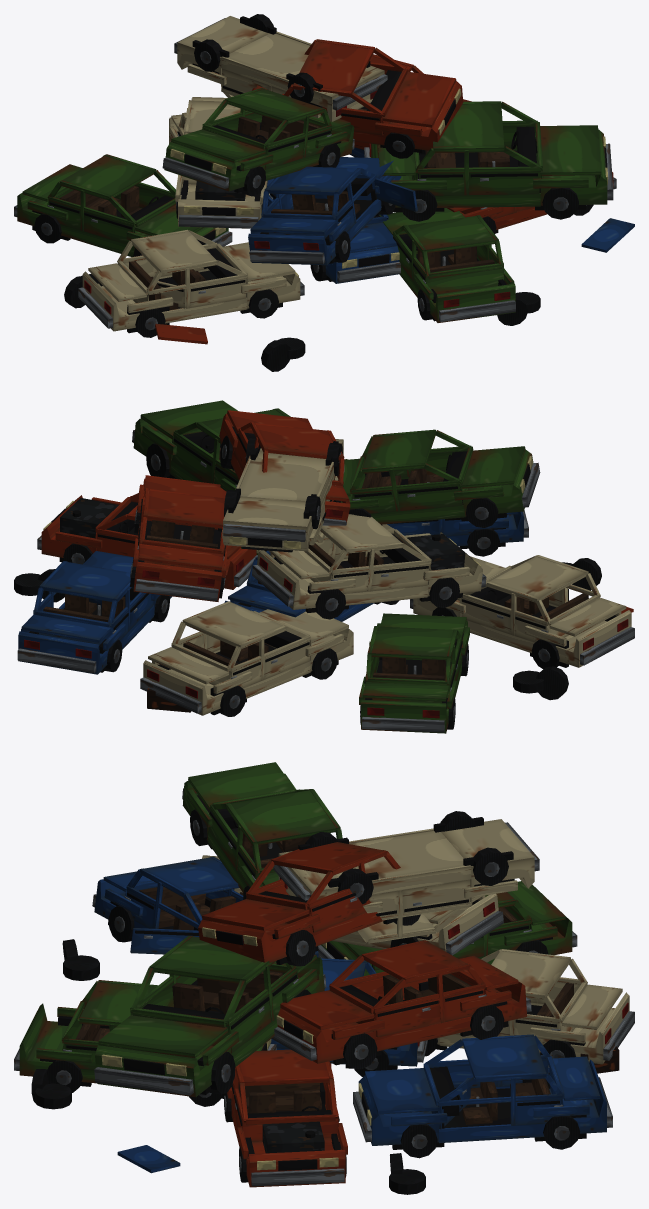
File: CarPile.fbx
3 renders of one model, top to bottom at view 1: azimuth 30°, elevation 25°; view 2: azimuth 150°, elevation 25°; view 3: azimuth 270°, elevation 25°, orthographic. The views are drawn at different scales.
Visible parts, largest first — view 1: CP_Pile; view 2: CP_Pile; view 3: CP_Pile.
Part boxes in pixels (box(x1,y1,x2,y2)): CP_Pile: box(14, 14, 634, 371); CP_Pile: box(14, 400, 634, 733); CP_Pile: box(14, 762, 634, 1194).
Size of the model in its own units: 12.69 by 4.42 by 11.05.
